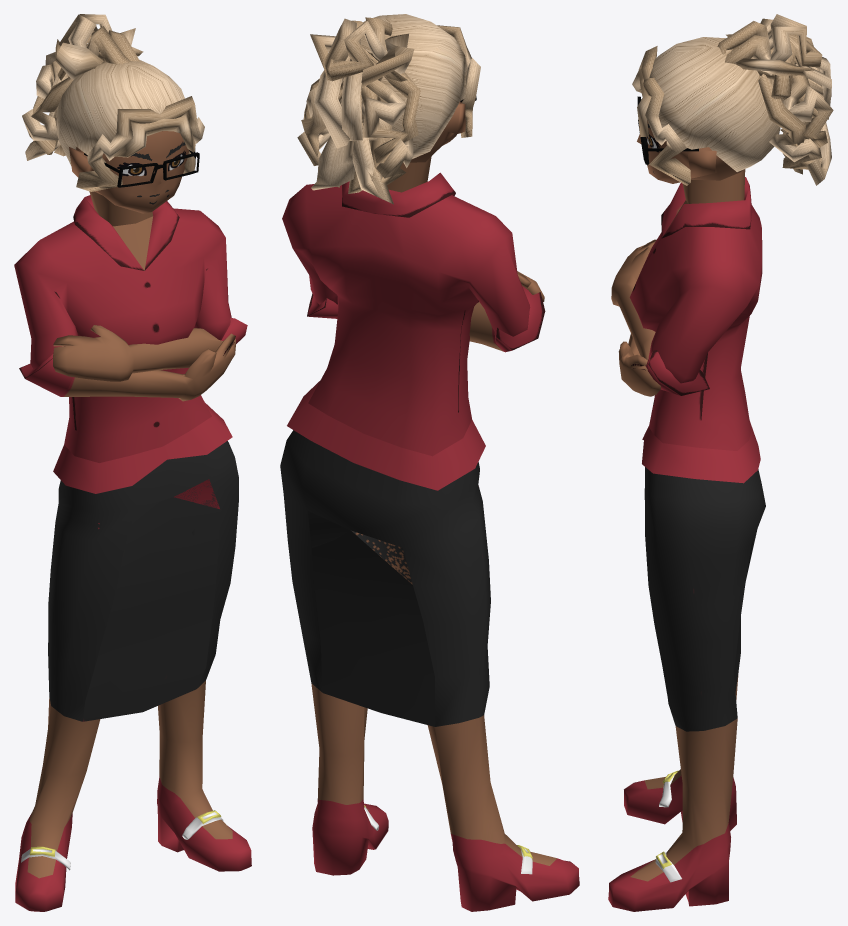
The model's file is RitaTCC_final.fbx.
3 views of the same model, side by side, from view 1: azimuth 30°, elevation 25°; view 2: azimuth 150°, elevation 25°; view 3: azimuth 270°, elevation 25° (orthographic). The views are drawn at different scales.
Visible parts, largest first — view 1: FullMenBody; view 2: FullMenBody; view 3: FullMenBody.
Part boxes in pixels (x1,y1,x2,y2): FullMenBody: (14,14,251,911); FullMenBody: (280,14,579,911); FullMenBody: (608,14,833,911).
Size of the model in its own units: 111 by 365 by 87.53.
7 materials, 3 textured.
